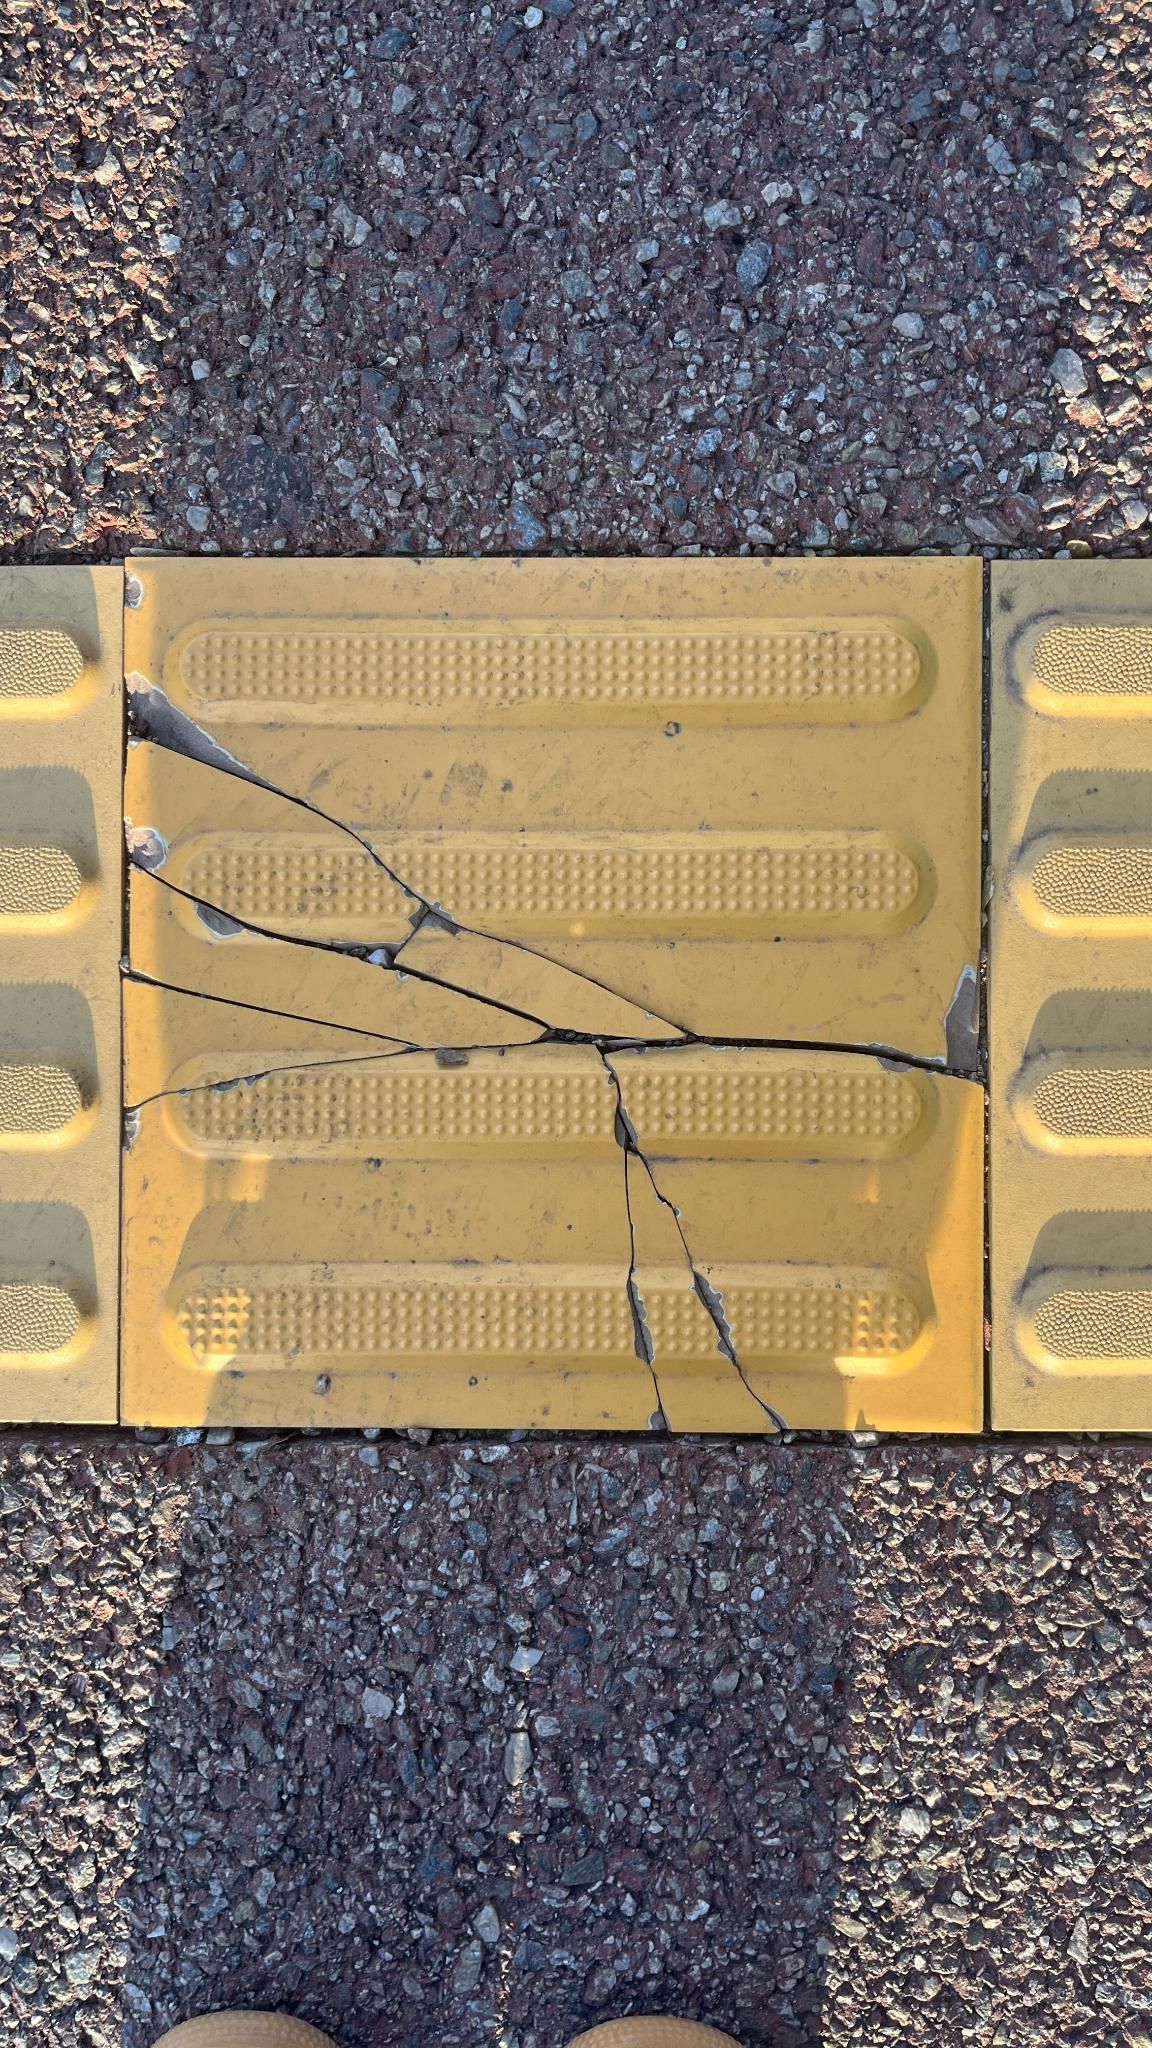Straight block broken: (131, 565, 973, 1423)
